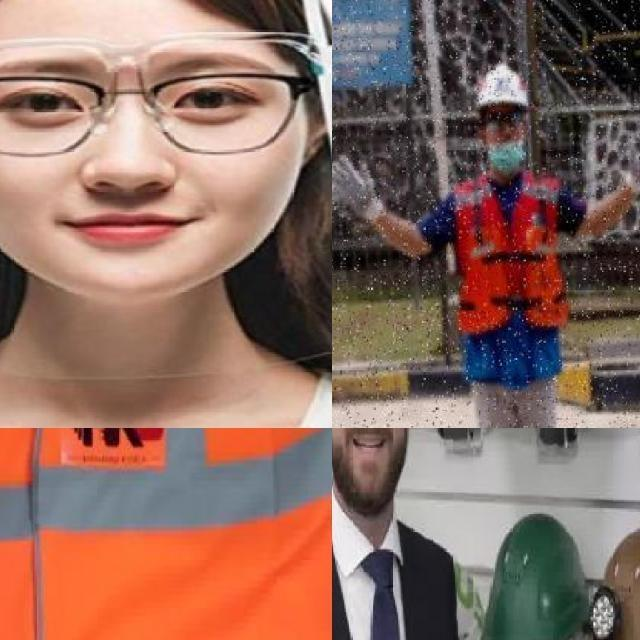apron: (332, 154, 385, 229), (624, 125, 640, 199)
